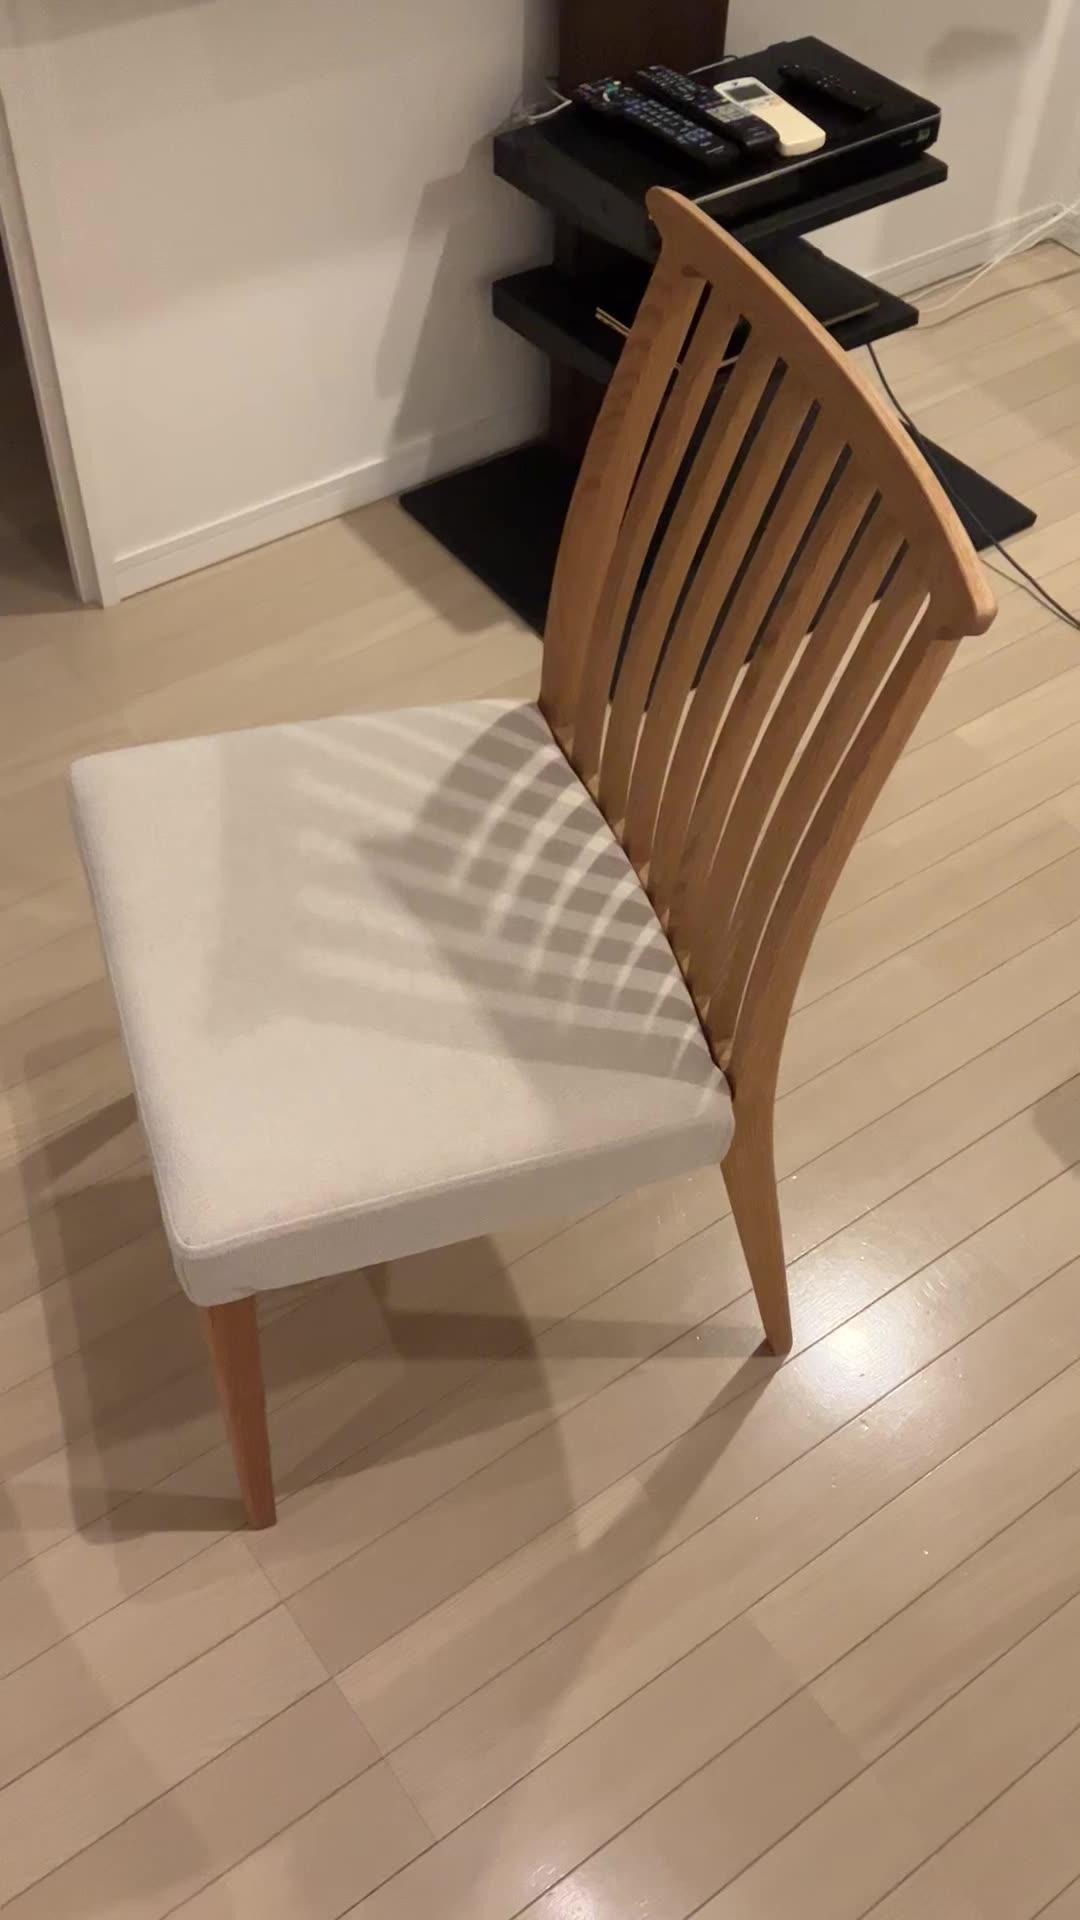takumikan-chair: (63, 182, 1001, 1530)
